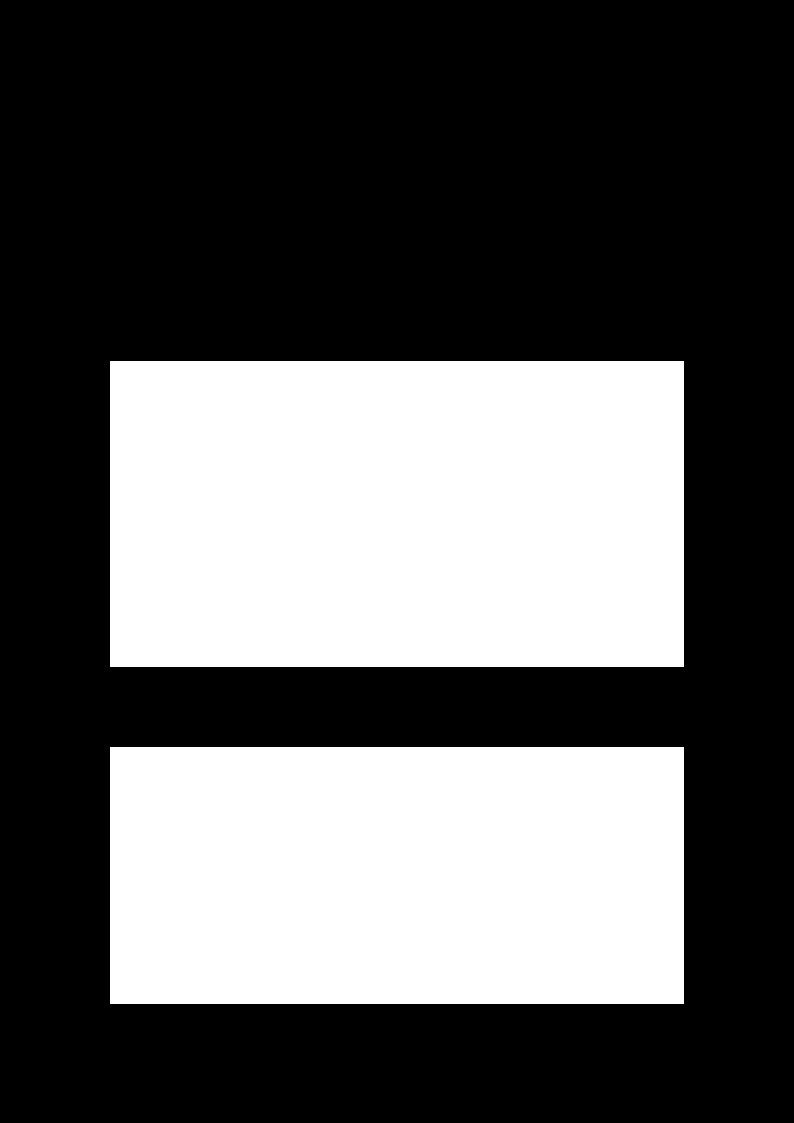table: (110, 361, 683, 666), (110, 747, 683, 1003)
